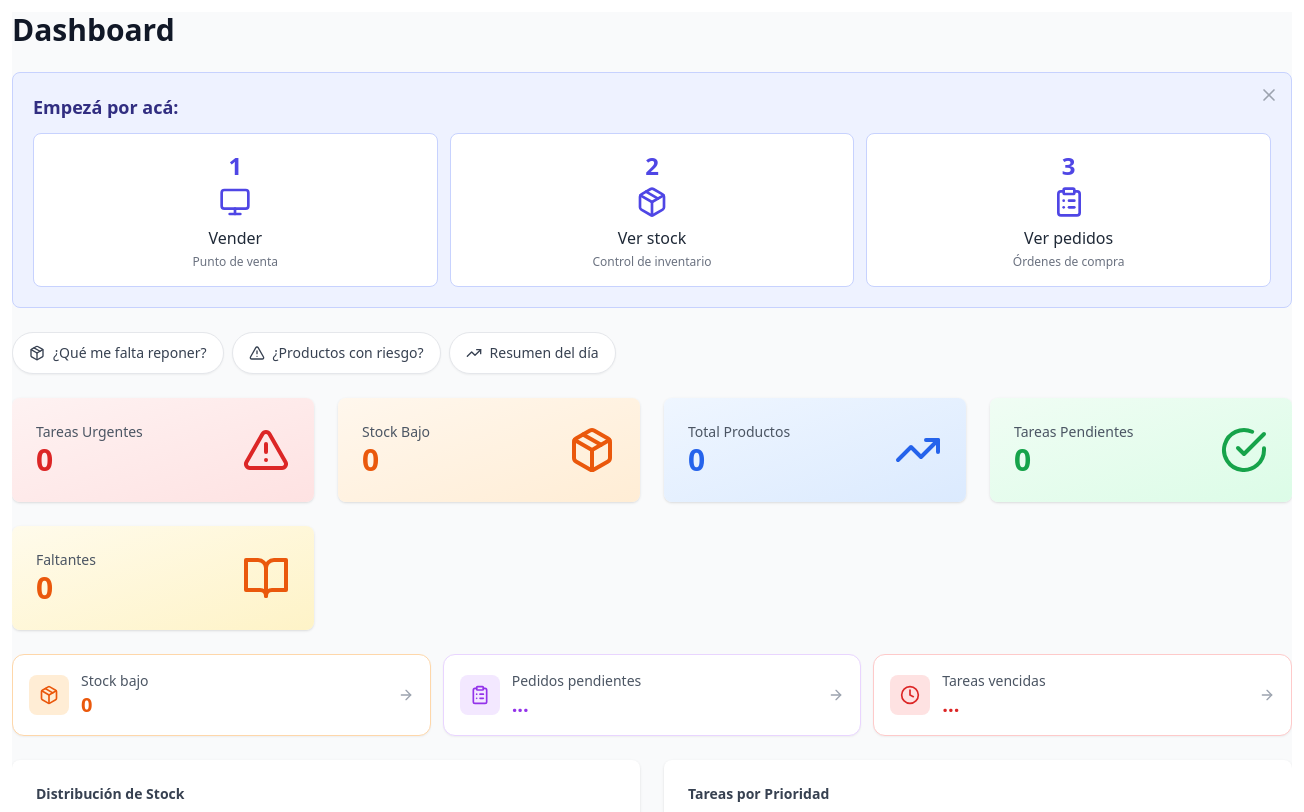
Scenario: Dashboard › V2-09: hides onboarding after dismiss
Click the button named "Cerrar guía". click: x=1269, y=95
box: [1259,85,1279,105]
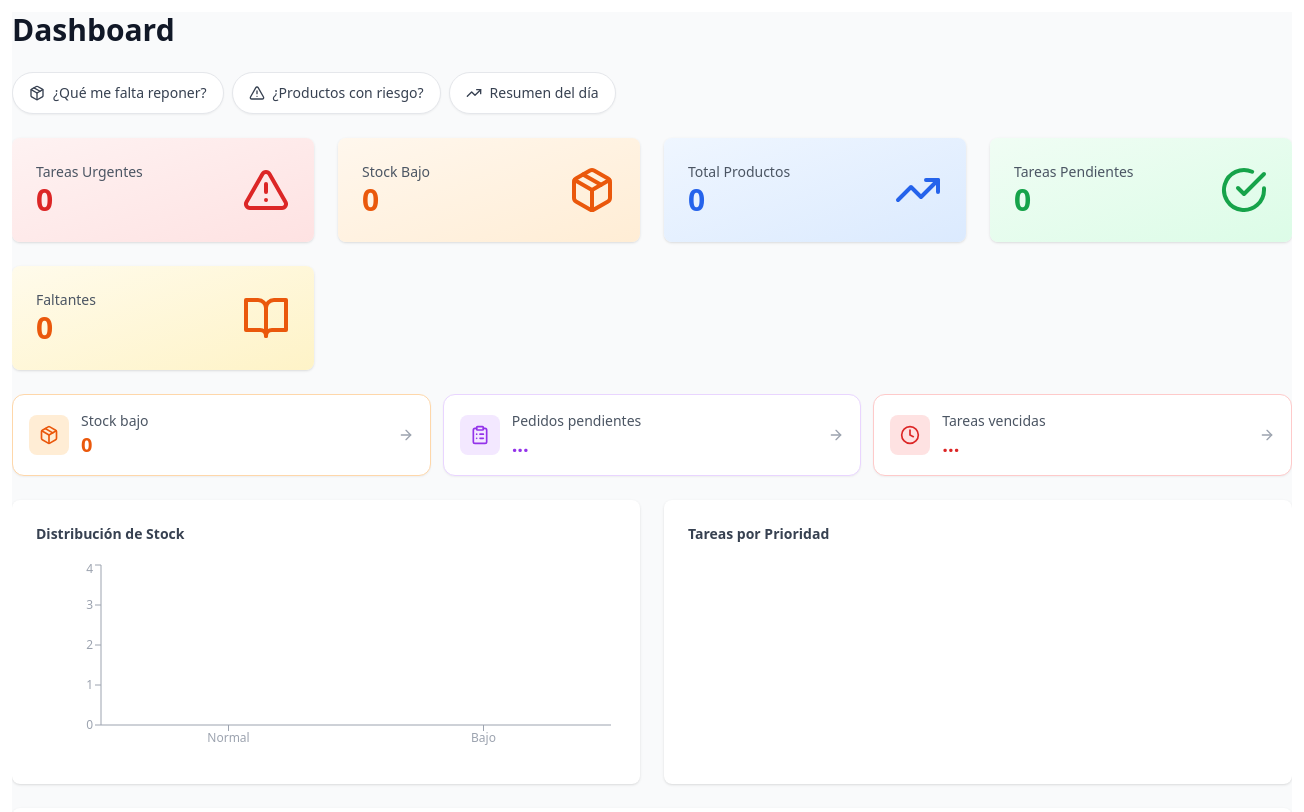
Expected: the heading "Empezá por acá:" is gone
